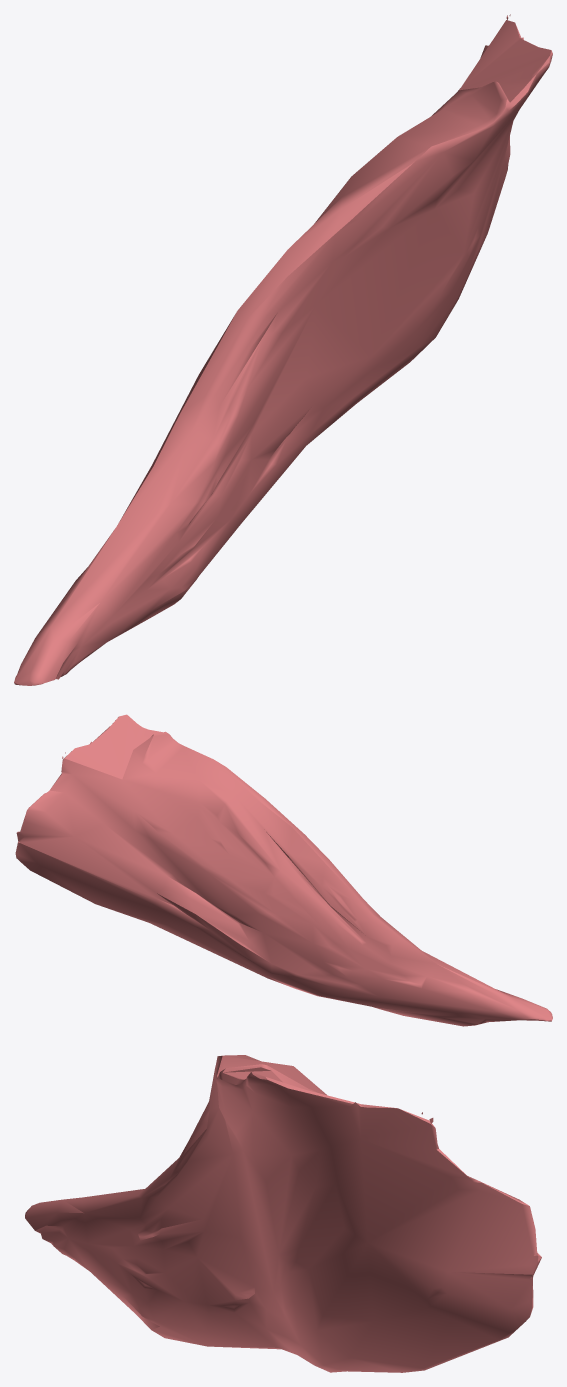
3 renders of one model, top to bottom at view 1: azimuth 30°, elevation 25°; view 2: azimuth 150°, elevation 25°; view 3: azimuth 270°, elevation 25°, orthographic. The views are drawn at different scales.
Parts seen in each view (by area): view 1: FJ1428; view 2: FJ1428; view 3: FJ1428.
Part boxes in pixels (x1=…): FJ1428: x1=14, y1=14, x2=552, y2=685; FJ1428: x1=15, y1=714, x2=552, y2=1026; FJ1428: x1=25, y1=1055, x2=541, y2=1372.
Bounding box in the file's own units: 0.111 × 0.066 × 0.0596.
